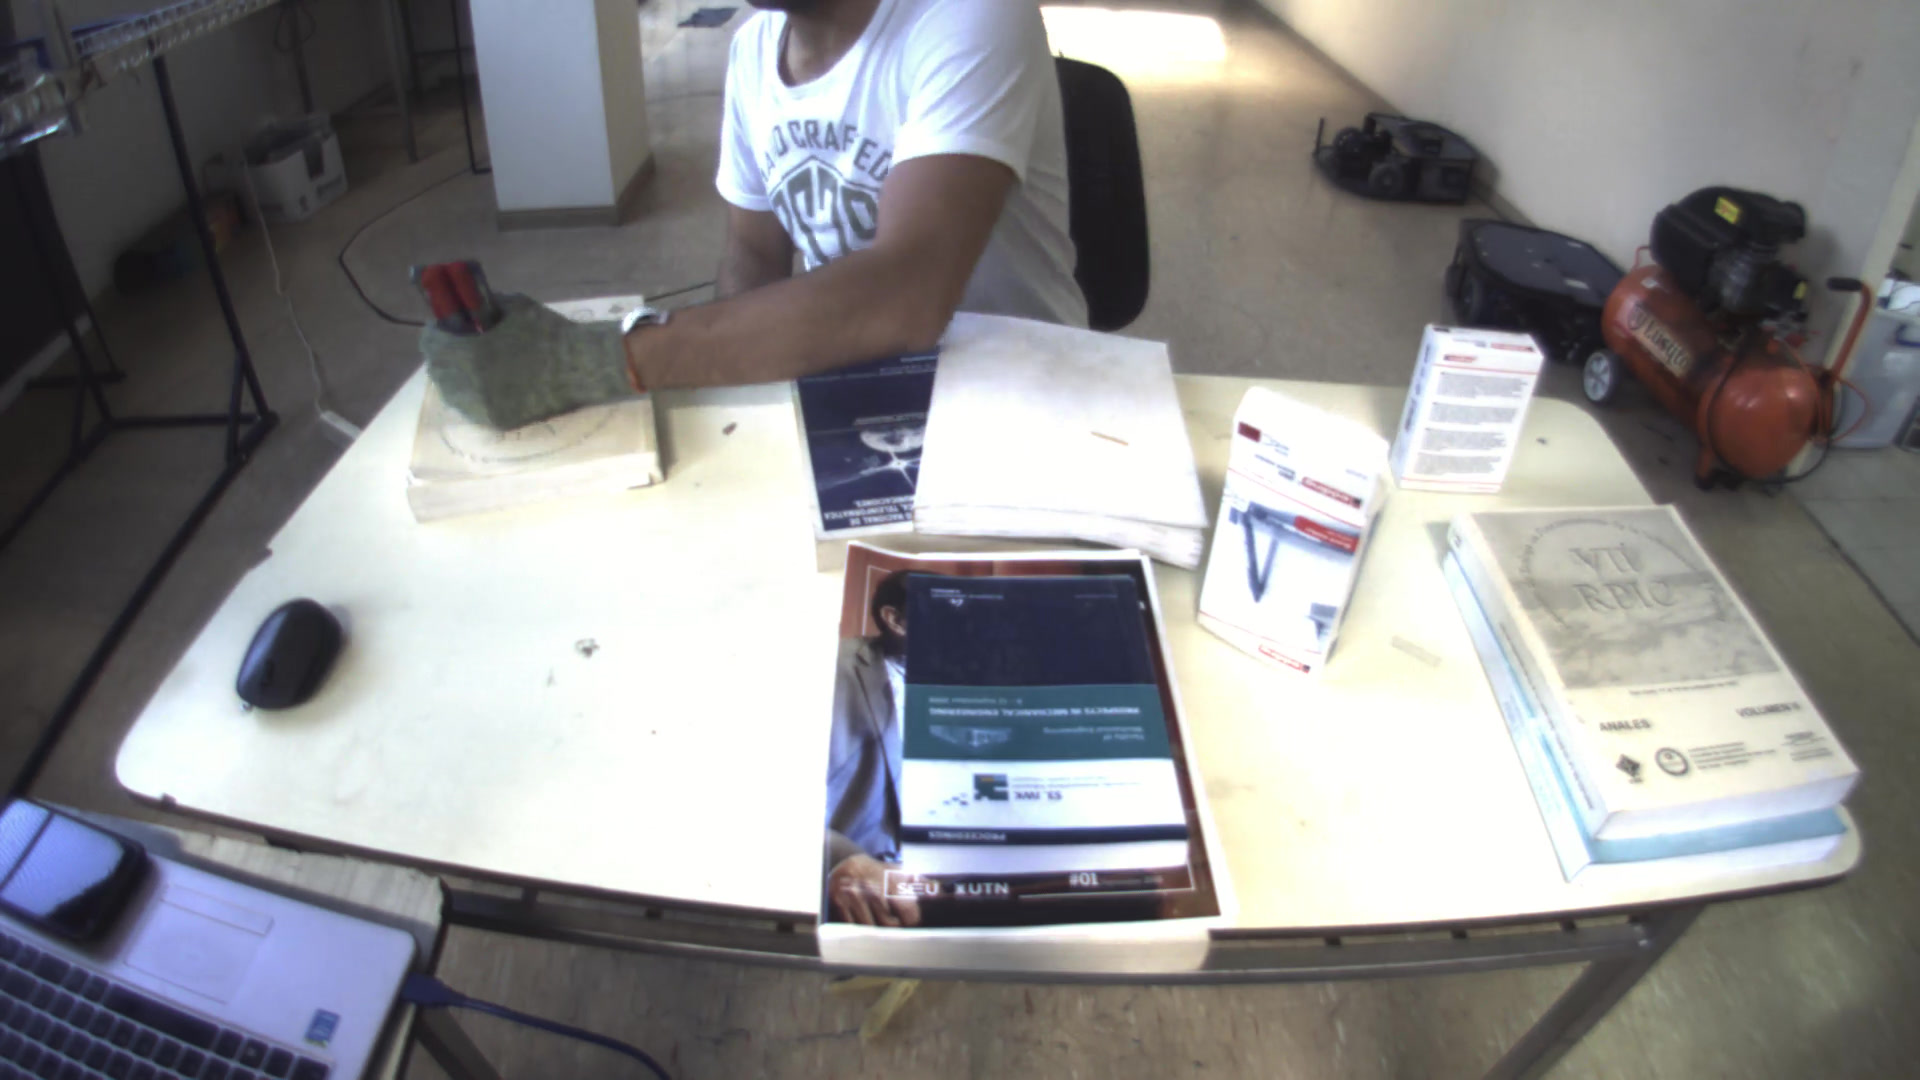hand: (414, 282, 646, 439)
